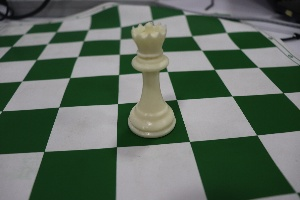white_queen: (120, 12, 182, 150)
